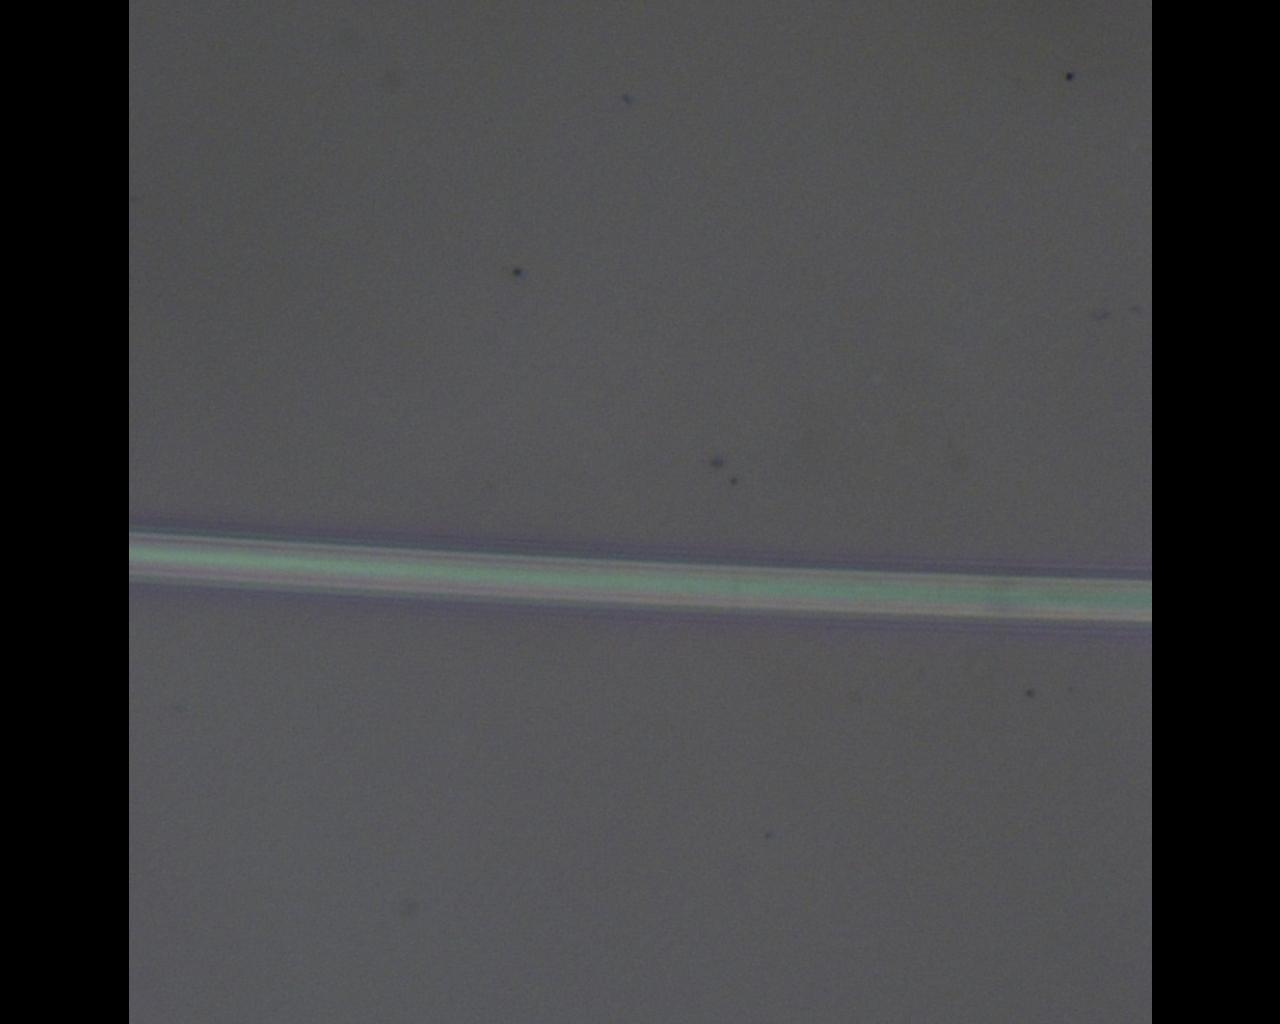fiber: (678, 0, 1218, 365), (0, 837, 678, 1024), (155, 265, 678, 481)
